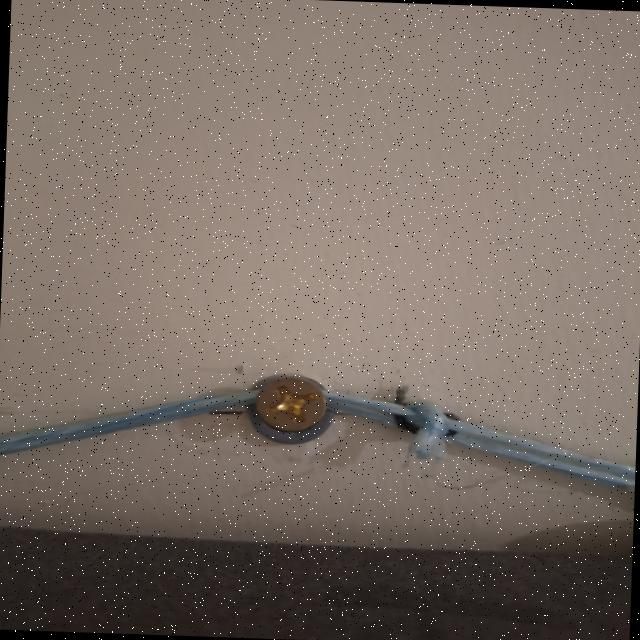Phillips: (253, 378, 322, 428)
